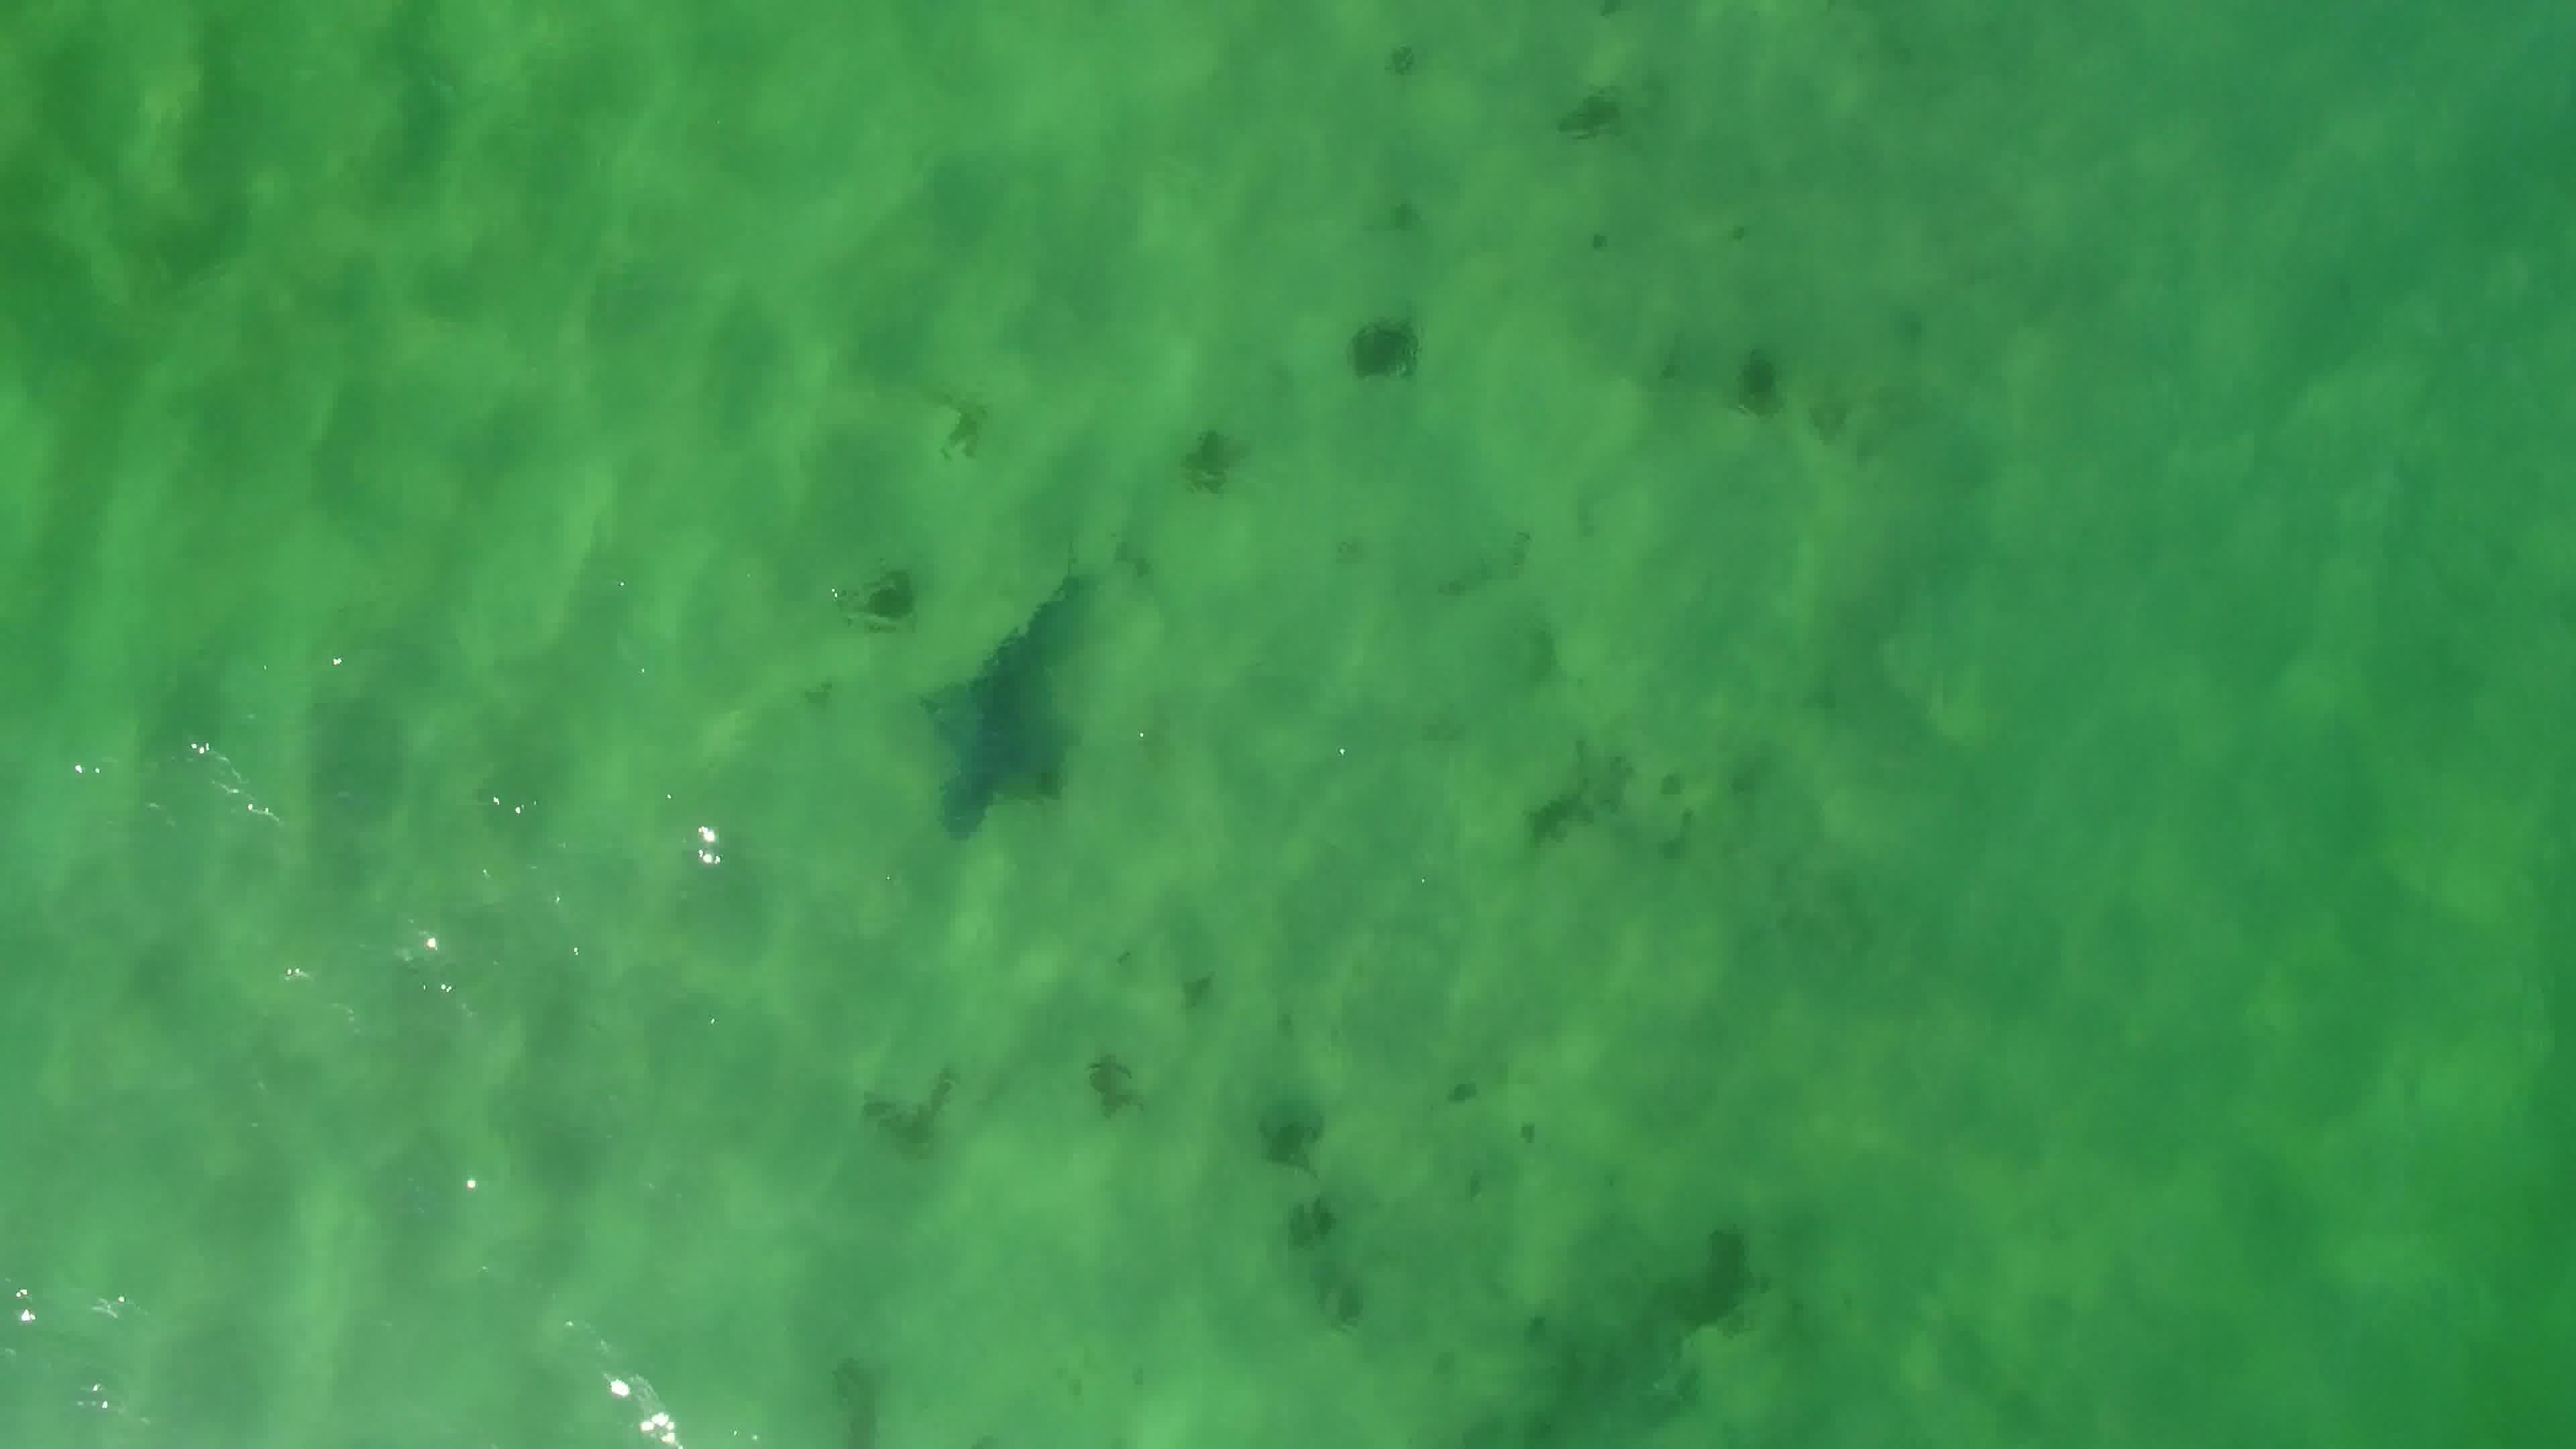shark: (904, 561, 1092, 847)
